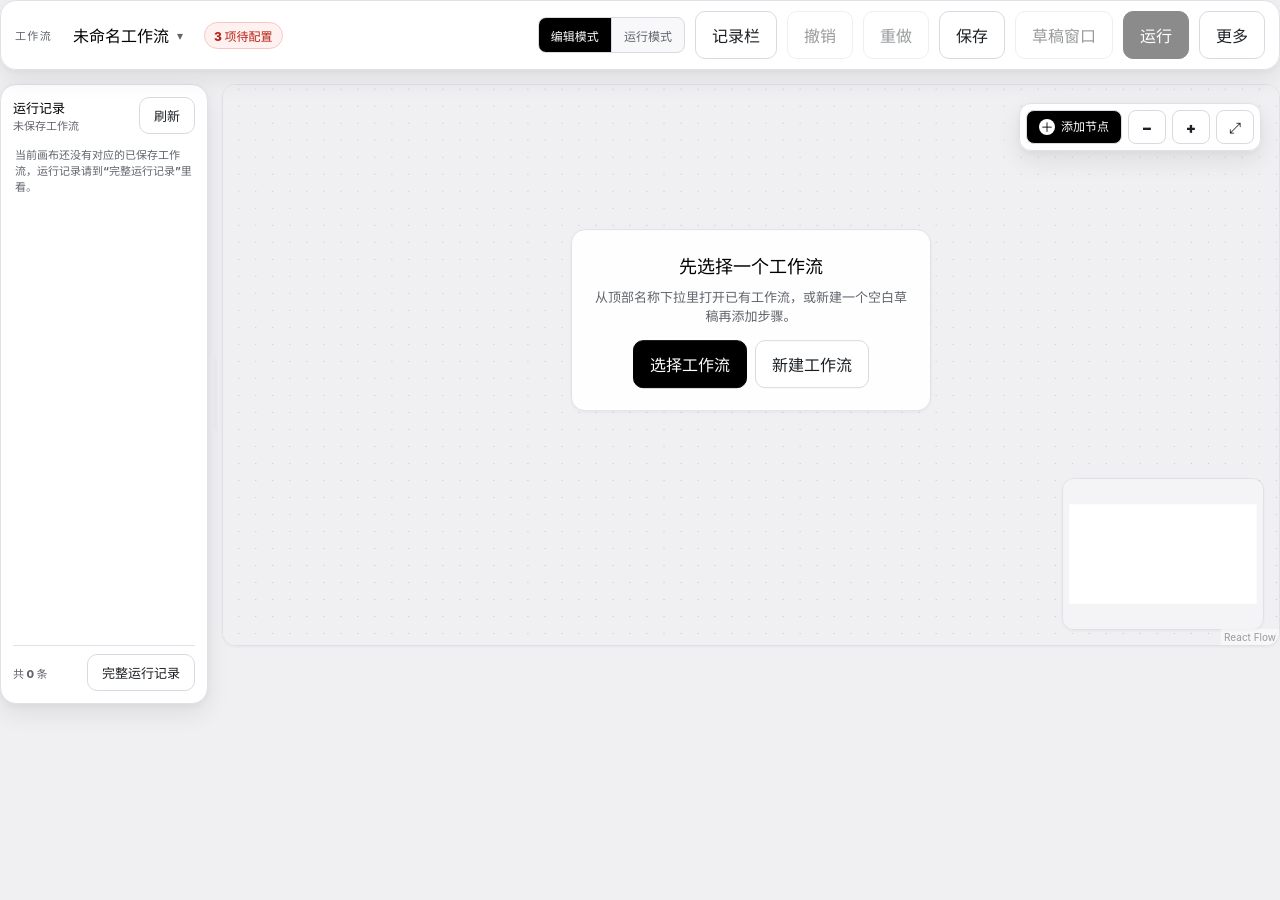
Test: WorkflowEditor 保存弹窗 › 已保存工作流在弹窗中锁定 ID
Click the button with class "workflowNameTrigger": coordinates (128, 35) [62,16,194,54]
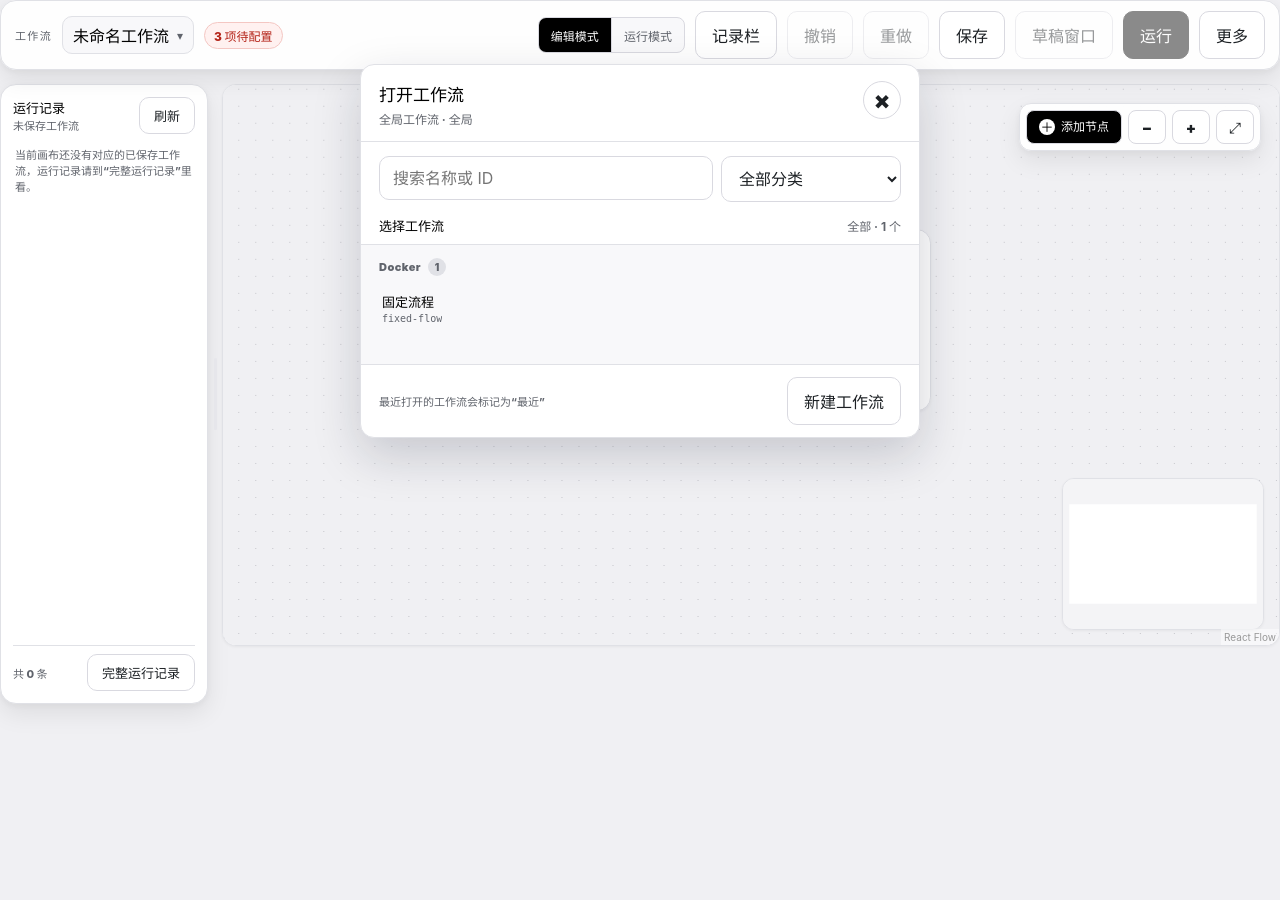
Click the option with class "workflowLoaderItem": coordinates (408, 302) [371,282,909,334]
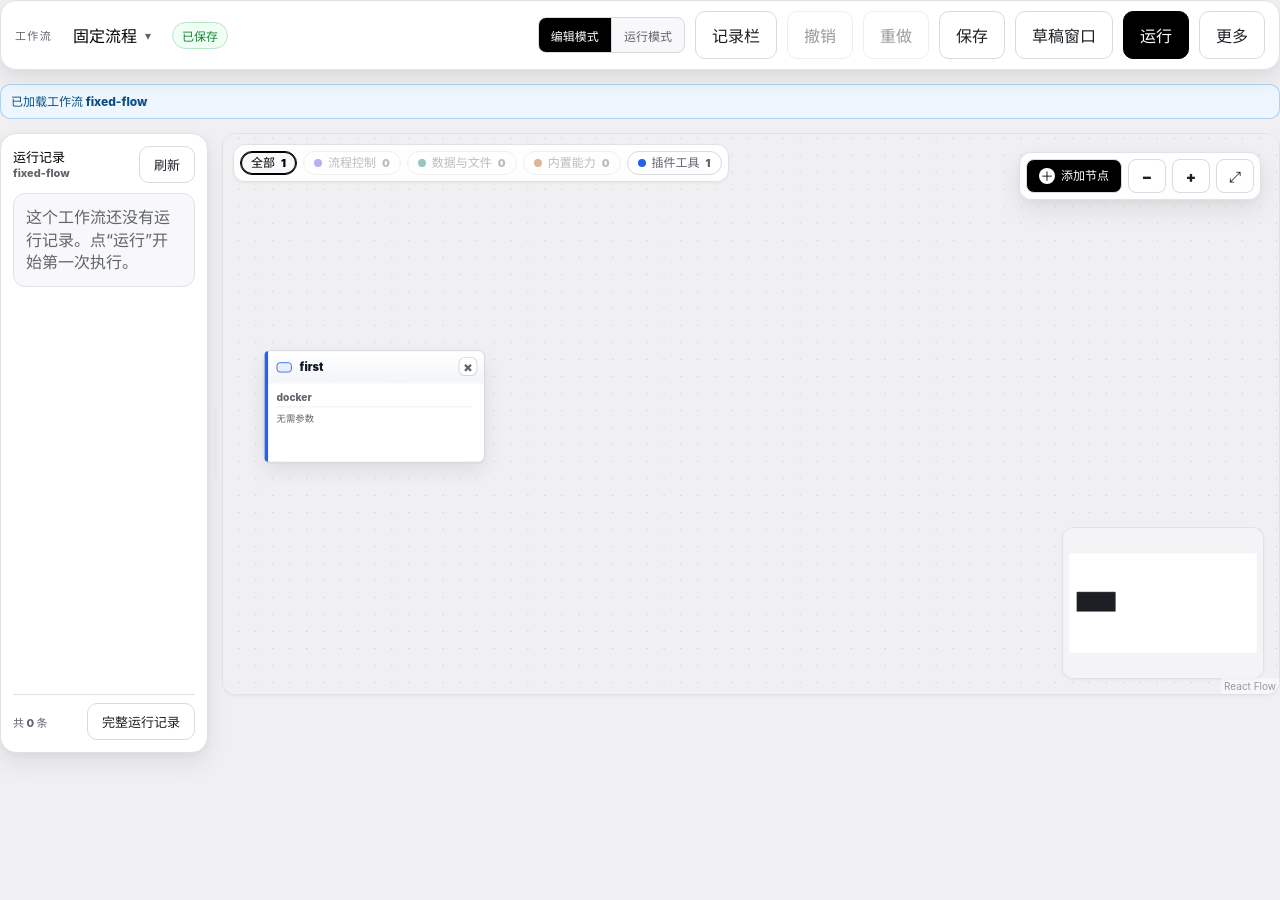
Click the button "保存": coordinates (972, 35) [939,11,1005,59]
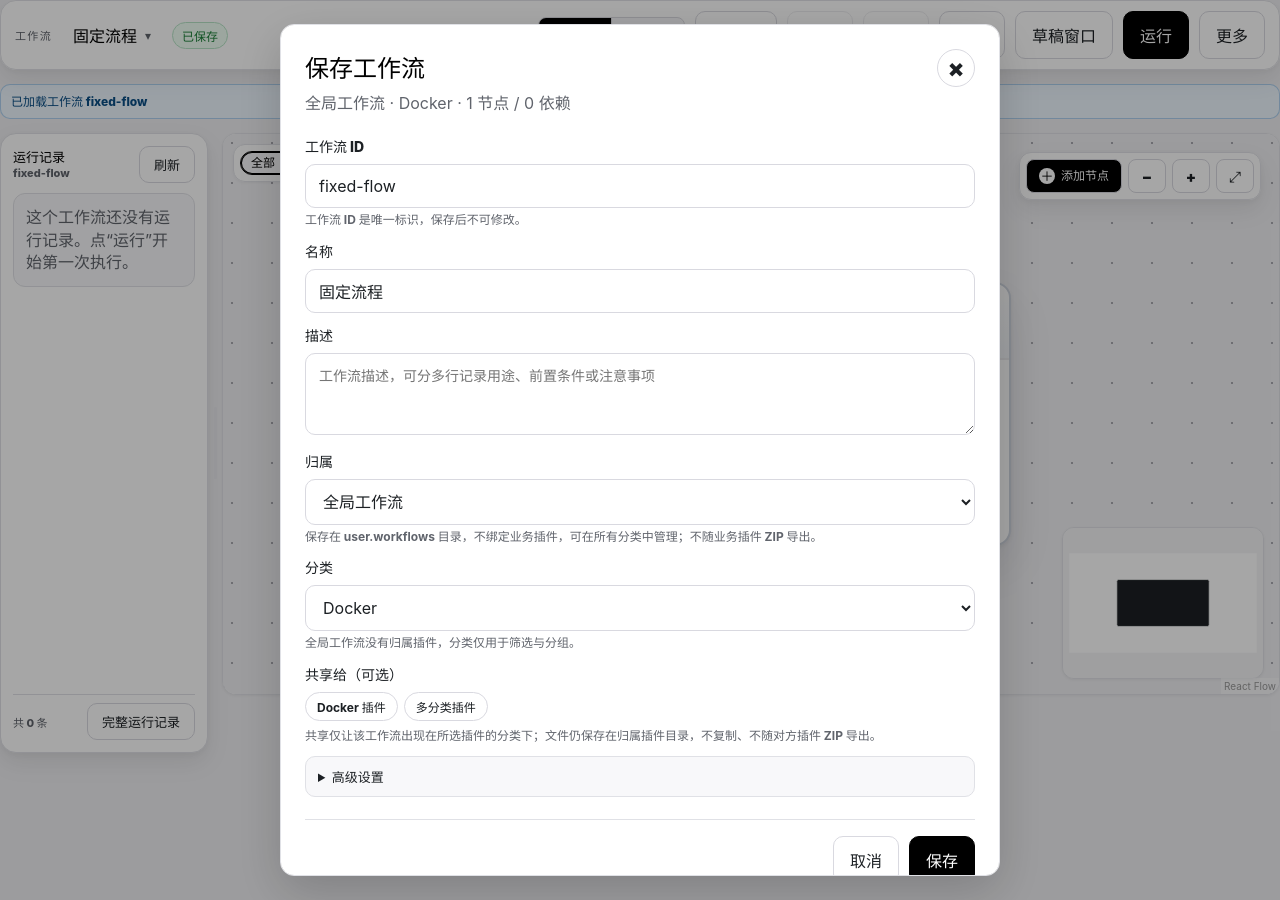
Expected: the field labelled "工作流 ID 工作流 ID 是唯一标识，保存后不可修改。" holds "fixed-flow", [305,164,975,208]
